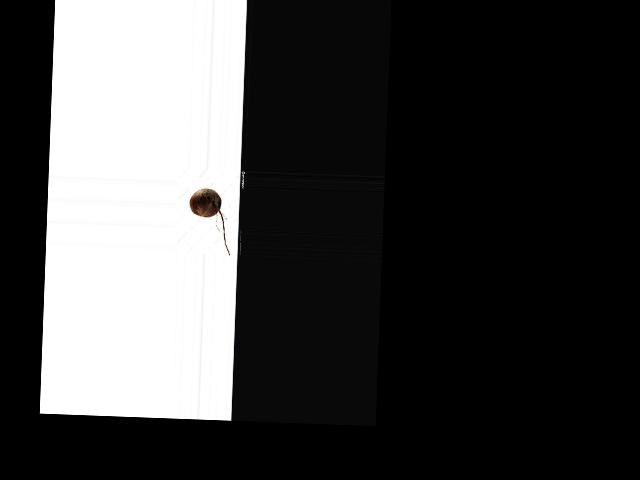beet: (188, 188, 232, 255)
